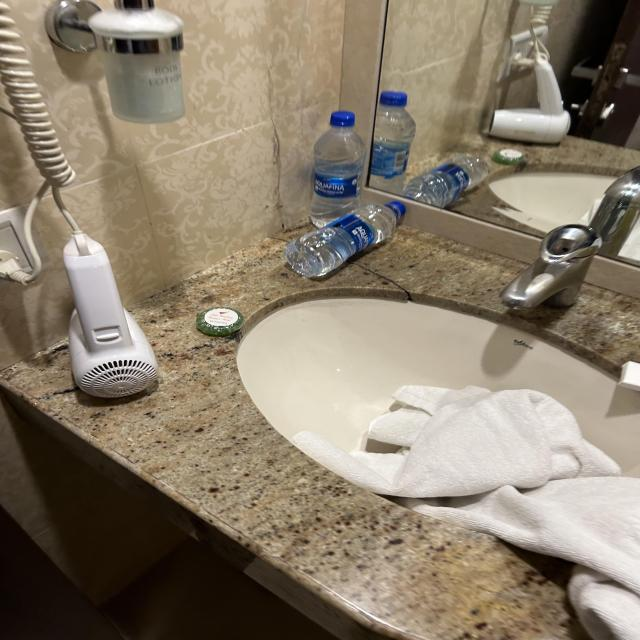mess: (0, 165, 640, 640)
